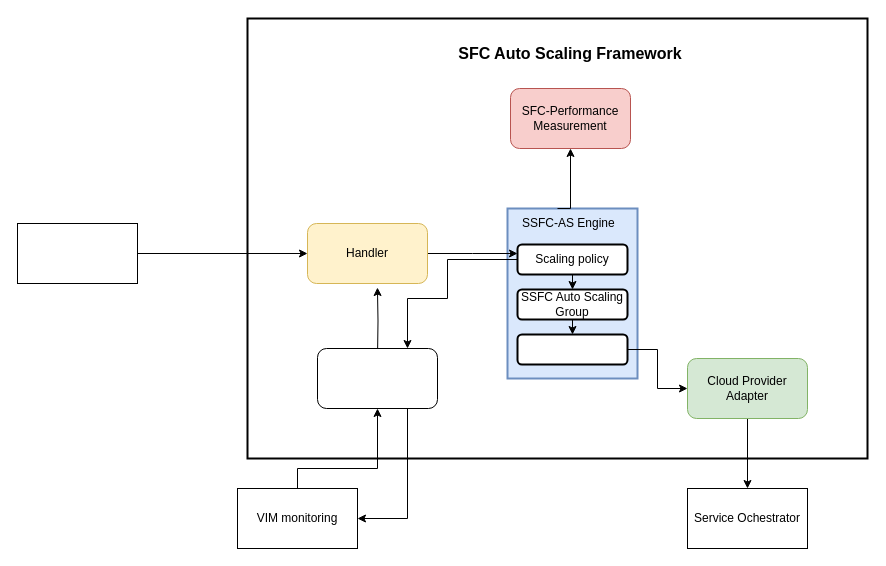
The diagram is 886 pixels wide and 566 high, and some of its shapes have lost their labels. Here are the shapes that lost their labels. From the top down, the centre of each, then its label:
At point 77,253: "OSS/BSS".
At point 572,349: "Auto Scaling Group".
At point 377,378: "CloudWatch API".
